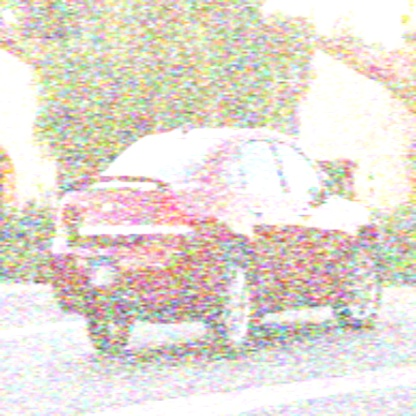Vehicle: (50, 122, 384, 356)
